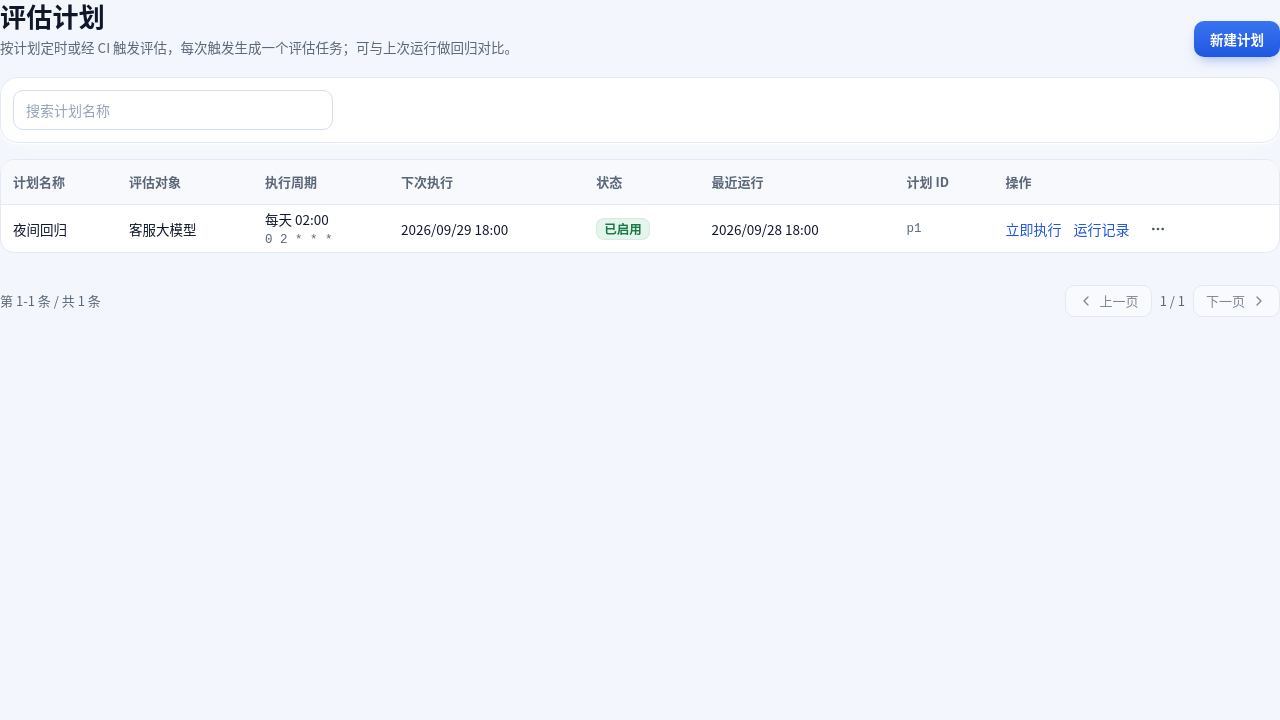
Test: EvalPlansPage 评估计划 › 新建计划：不列已禁用的样本库
Step 1. Click the button "新建计划" → point(1237, 39), box x1=1194 y1=21 x2=1279 y2=57
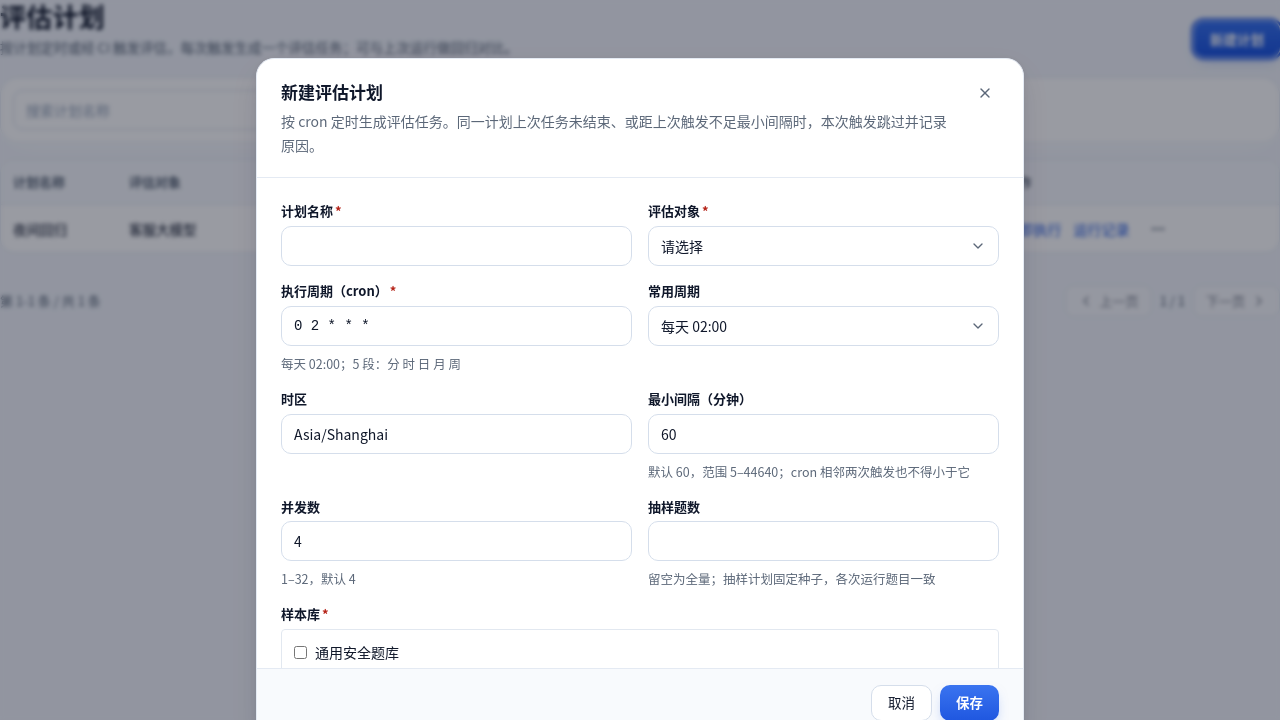
Now the checkbox labelled "通用安全题库" is shown, box x1=294 y1=646 x2=307 y2=659
